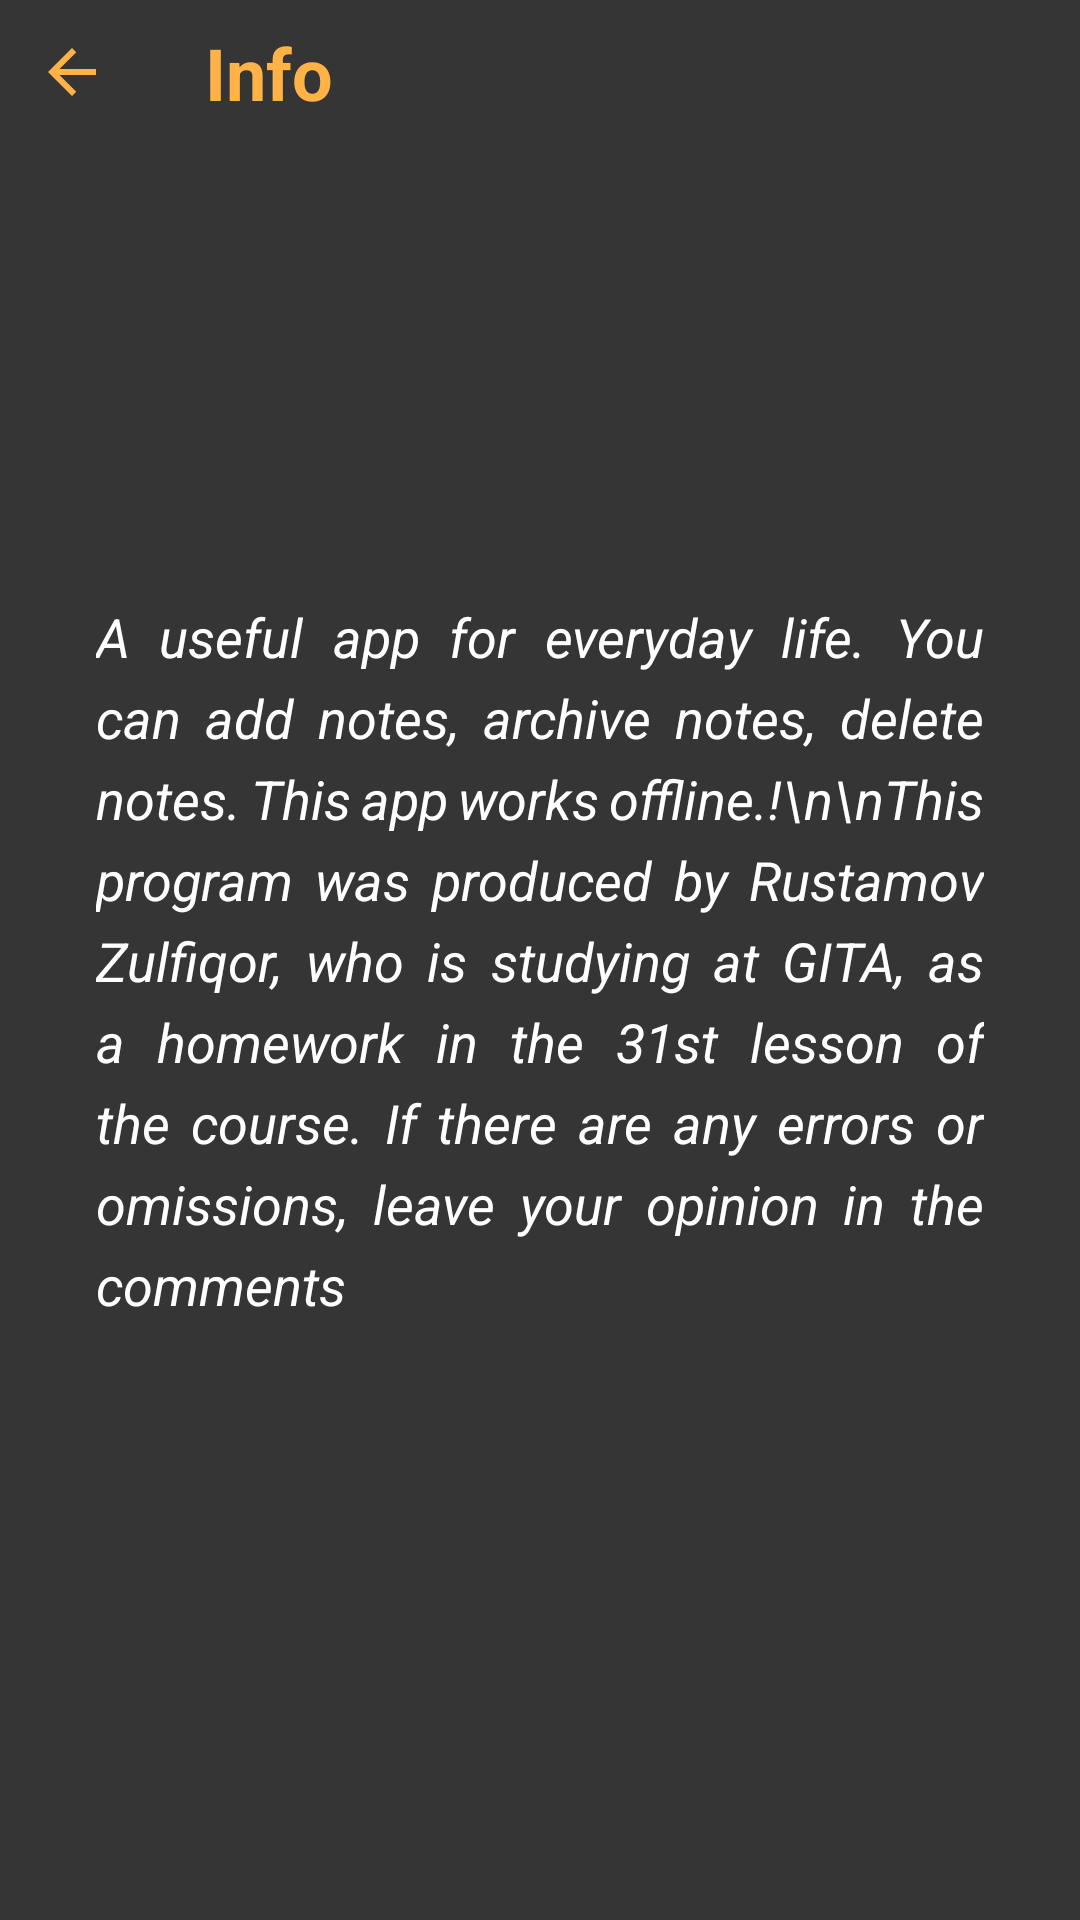

Screen size 1080 × 1920. Icon name, then its box in pixels as (x1, y1, x2, y2):
arrow back: (48, 48, 96, 96)
